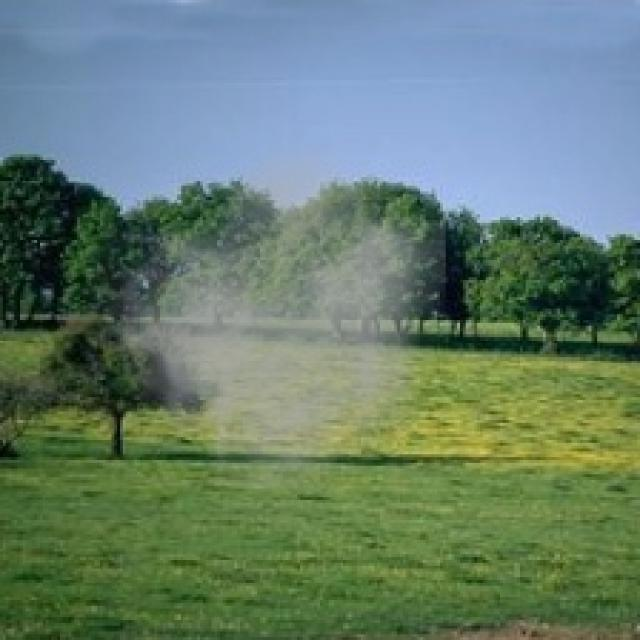Smoke: (74, 132, 446, 512)
